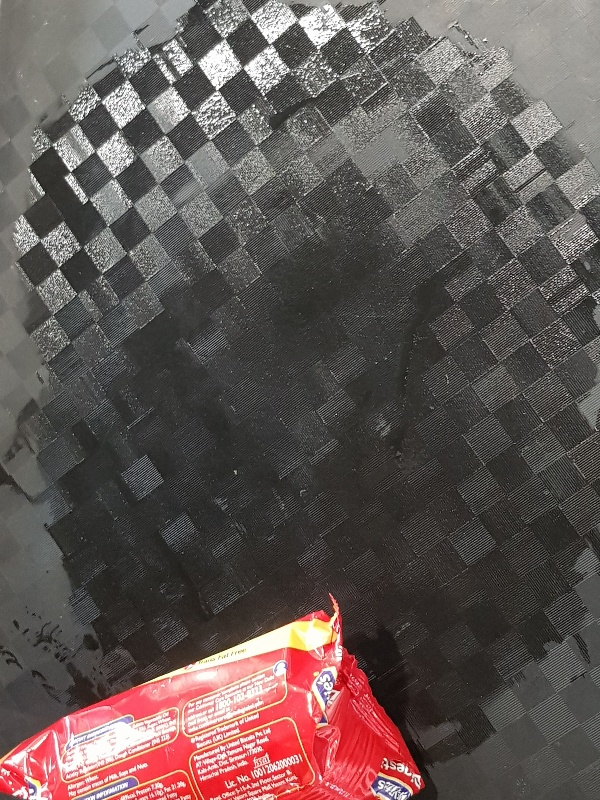Mcvitie's Digestive: (2, 609, 423, 800)
